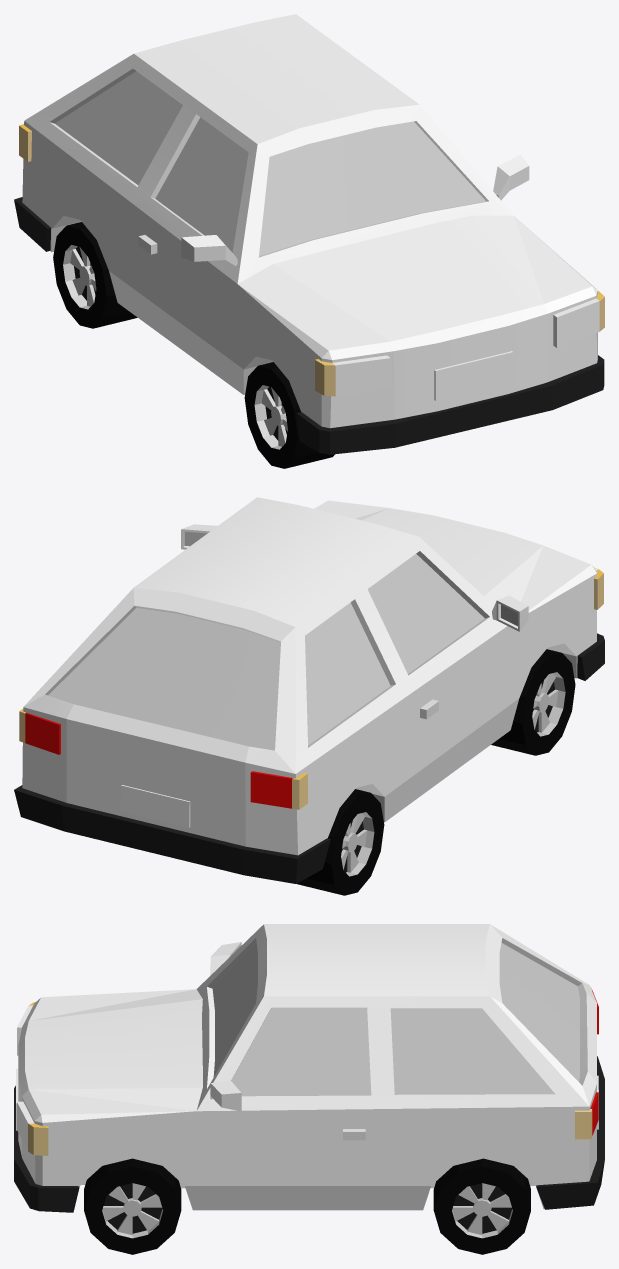
The model's file is Car-09-F.fbx.
3 views of the same model, one above another, from view 1: azimuth 30°, elevation 25°; view 2: azimuth 150°, elevation 25°; view 3: azimuth 270°, elevation 25° (orthographic). The views are drawn at different scales.
Visible parts, largest first — view 1: Car-09, BR, FR, Head-Light, Light-Right; view 2: Car-09, FR, BR, Break-Light, Light-Right; view 3: Car-09, FL, BL, Light-Left, Head-Light.
Boxes of the visible parts, x1,y1,x2,y2 form: Car-09: (14, 14, 604, 454); BR: (53, 222, 137, 328); FR: (244, 362, 334, 468); Head-Light: (333, 298, 599, 395); Light-Right: (19, 125, 335, 396); Car-09: (14, 497, 604, 883); FR: (491, 649, 575, 755); BR: (297, 789, 384, 895); Break-Light: (25, 713, 293, 808); Light-Right: (292, 570, 603, 809); Car-09: (14, 924, 604, 1212); FL: (84, 1158, 181, 1254); BL: (433, 1158, 530, 1254); Light-Left: (28, 1109, 592, 1155); Head-Light: (17, 1005, 34, 1150).
Size of the model in its own units: 2.45 by 1.79 by 4.05.
